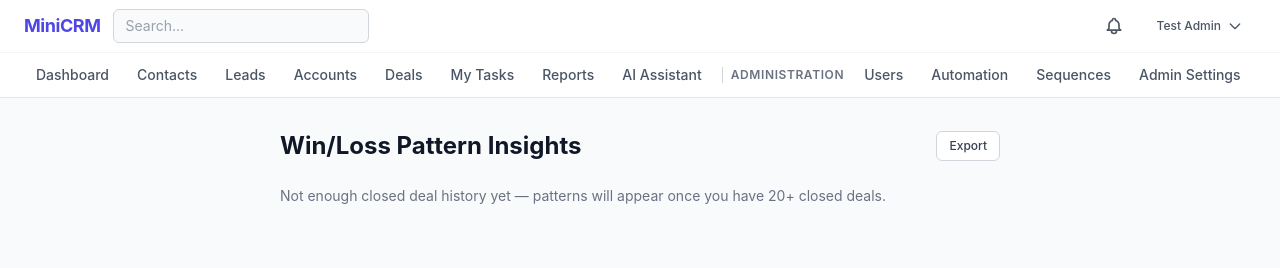
WinLossInsightsPage › disables export buttons when there is insufficient data
Click the button with test id "win-loss-export-menu-button" at [968, 146], box left=936, top=131, right=1000, bottom=161
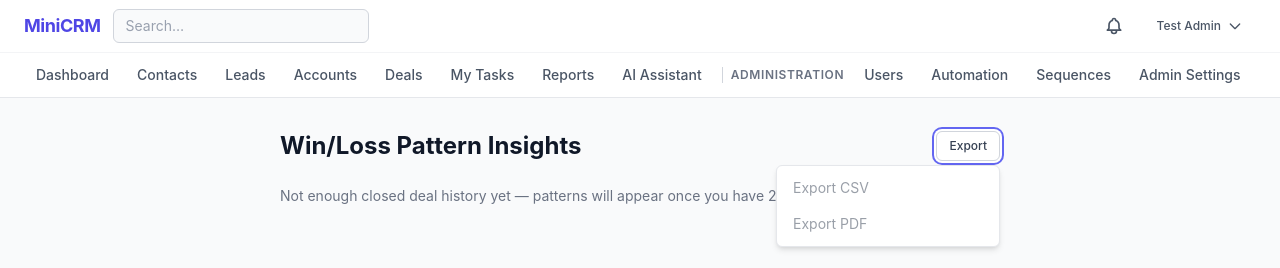
Expected: the menu item with test id "win-loss-export-csv-button" is disabled, left=777, top=170, right=999, bottom=206
Expected: the menu item with test id "win-loss-export-pdf-button" is disabled, left=777, top=206, right=999, bottom=242
